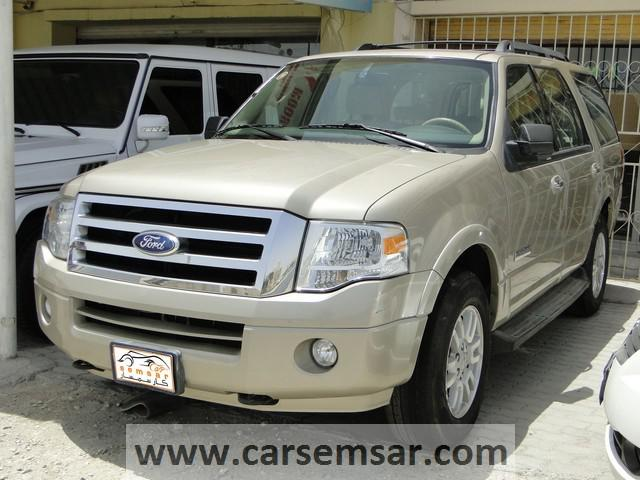Car: (27, 28, 627, 435)
